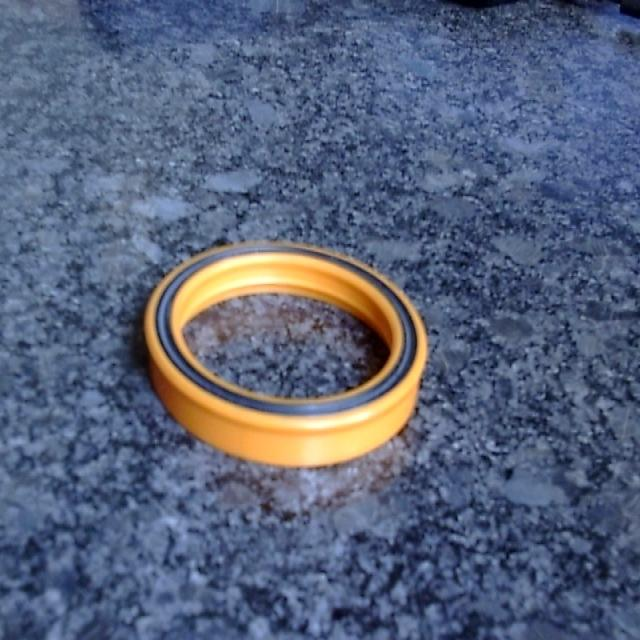orange-LW-ring: (144, 242, 428, 465)
